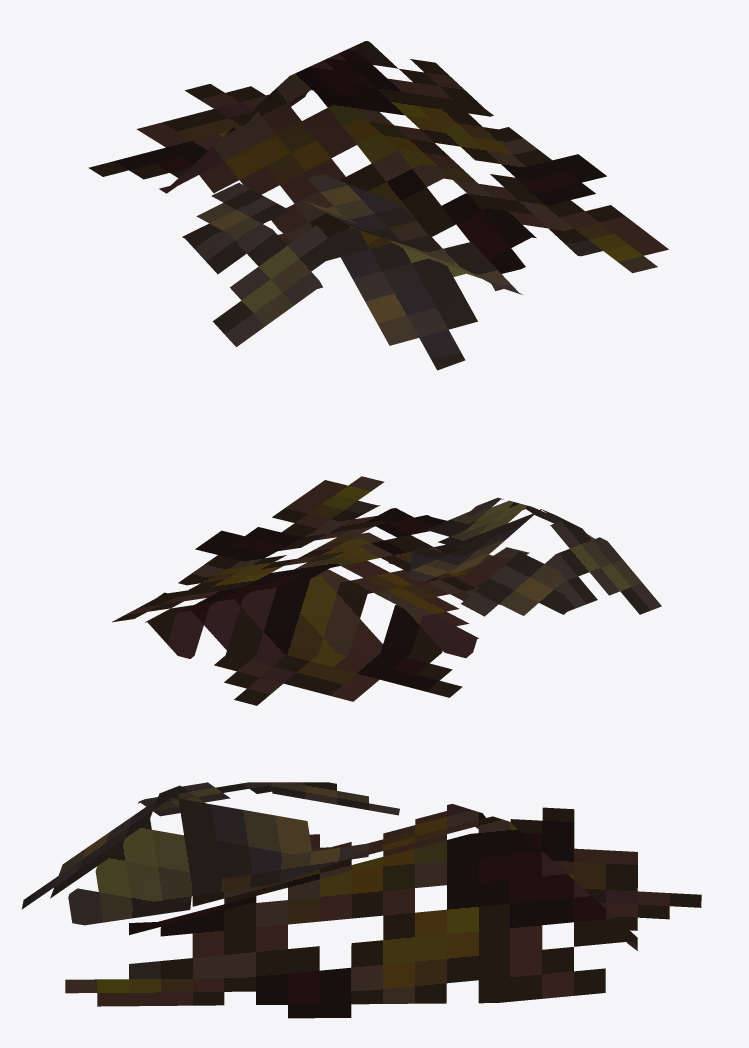
The model's file is EnvFldMD_FoliageGrass_C_MA.FBX.
The picture shows the model from 3 angles, top to bottom: view 1: azimuth 30°, elevation 25°; view 2: azimuth 150°, elevation 25°; view 3: azimuth 270°, elevation 25°; orthographic projection. The views are drawn at different scales.
Parts seen in each view (by area): view 1: EnvFldMD_FoliageGrass_C_MA; view 2: EnvFldMD_FoliageGrass_C_MA; view 3: EnvFldMD_FoliageGrass_C_MA.
Part boxes in pixels (x1,y1,x2,y2): EnvFldMD_FoliageGrass_C_MA: (88, 41, 668, 370); EnvFldMD_FoliageGrass_C_MA: (112, 476, 661, 705); EnvFldMD_FoliageGrass_C_MA: (21, 782, 701, 1018).
Size of the model in its own units: 92.98 by 25.21 by 113.
Materials: 1 (1 with a texture image).
